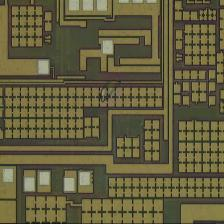PARTICLE: (96, 75, 128, 106)
